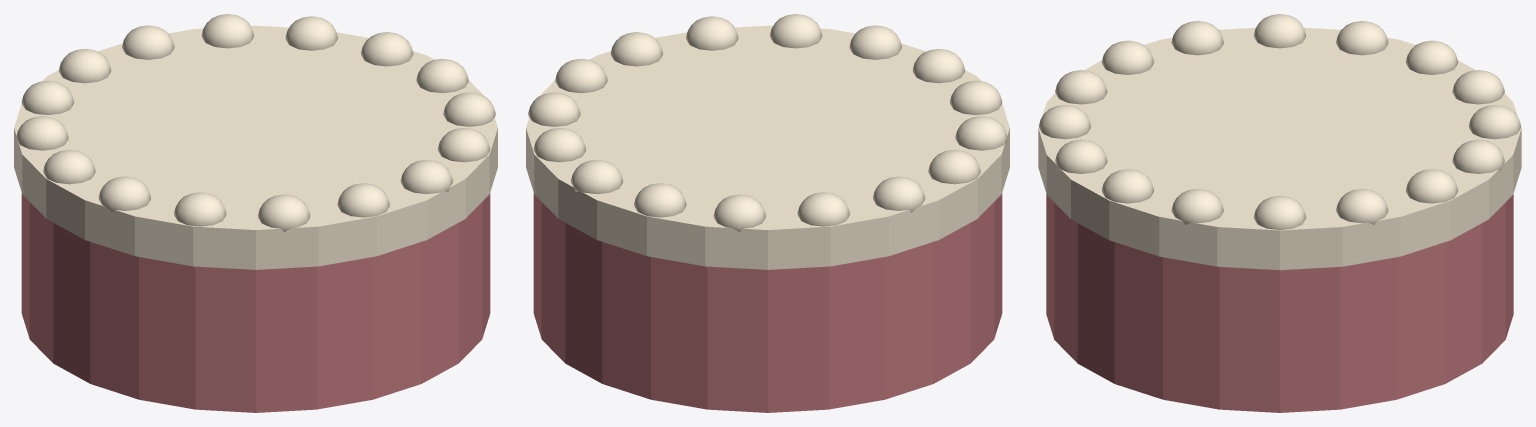
Rendered from cake_middle.glb.
3 renders of one model, left to right at view 1: azimuth 30°, elevation 25°; view 2: azimuth 150°, elevation 25°; view 3: azimuth 270°, elevation 25°, orthographic.
Parts seen in each view (by area): view 1: cake_middle; view 2: cake_middle; view 3: cake_middle.
Boxes of the visible parts, box(x1,y1,x2,y2) form: cake_middle: box(14, 14, 497, 412); cake_middle: box(526, 14, 1009, 412); cake_middle: box(1038, 14, 1521, 412).
Bounding box in the file's own units: 0.496 × 0.234 × 0.496.
